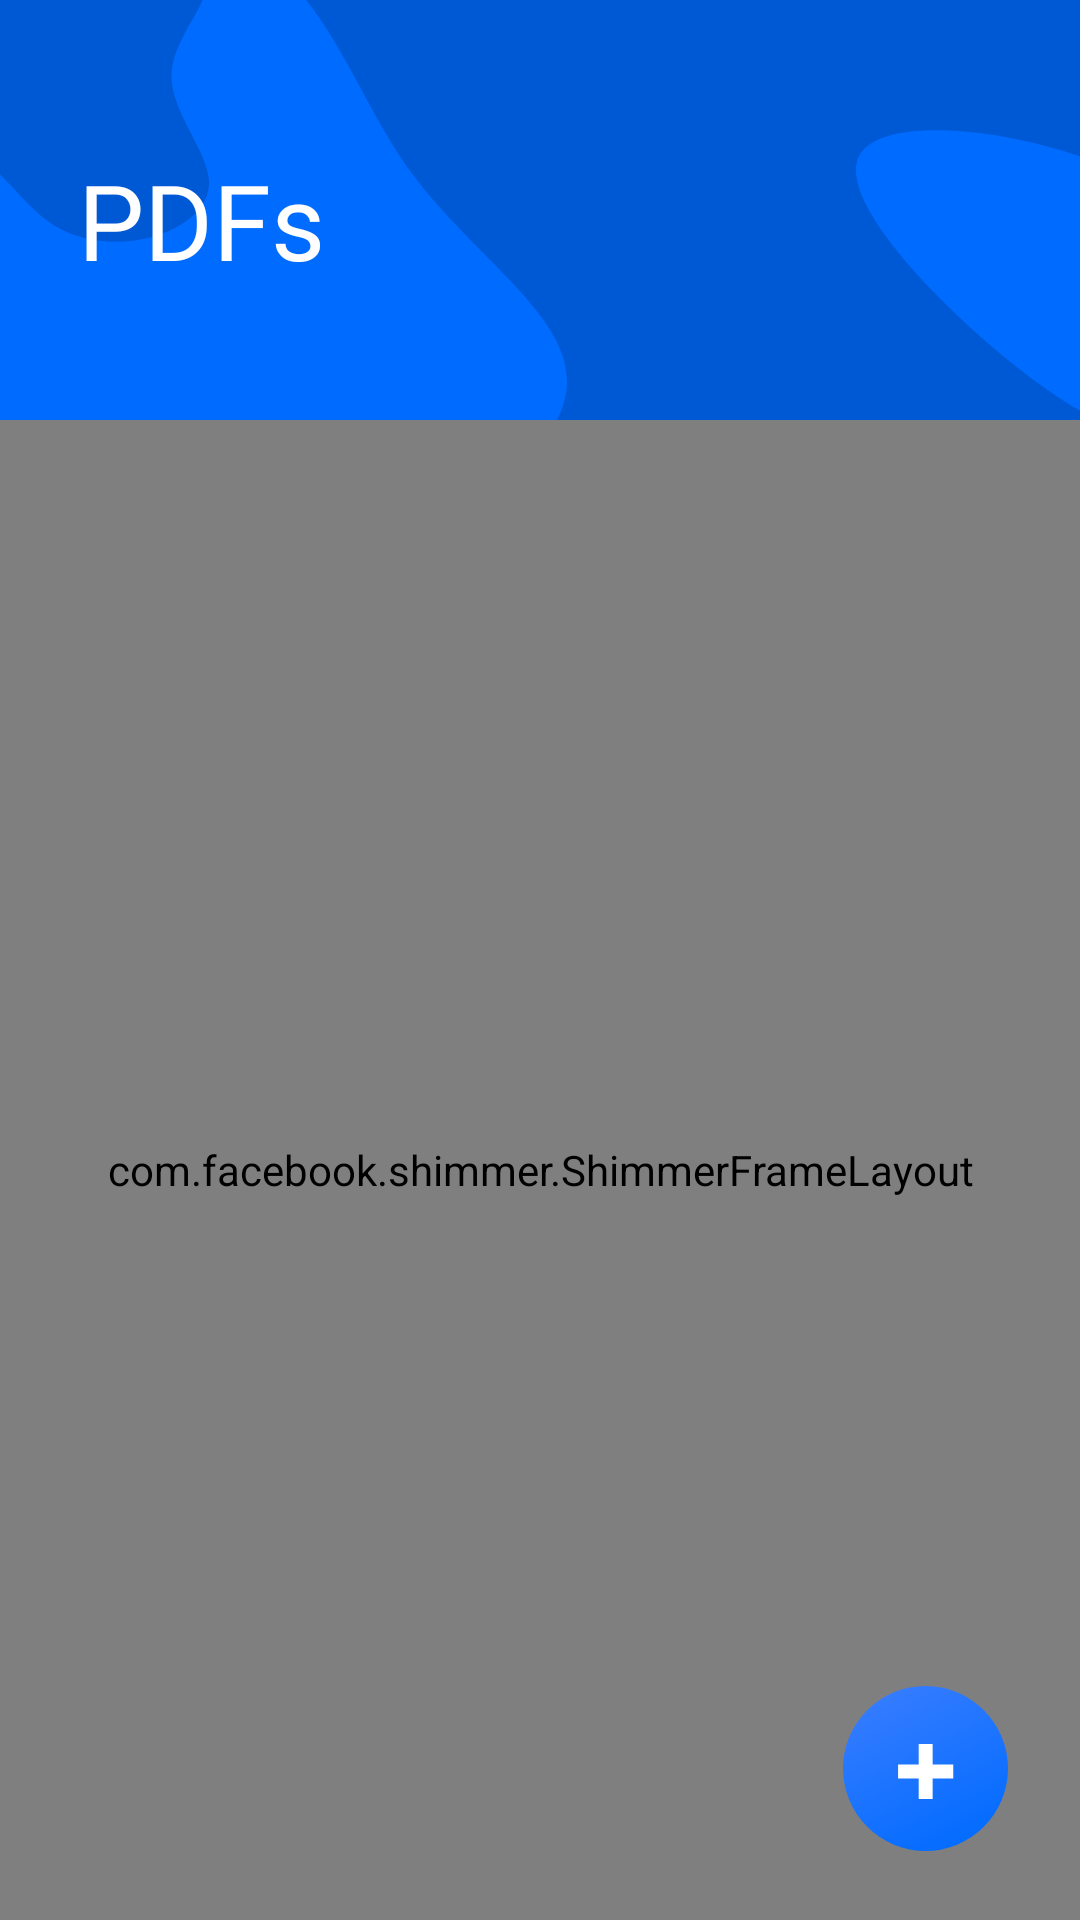

Named icons in this screenshot (1080*1920) and their bounding boxes, {"x1": x1, "y1": y1, "x2": x2, "y2": y2}:
fab: {"x1": 843, "y1": 1686, "x2": 1008, "y2": 1851}
